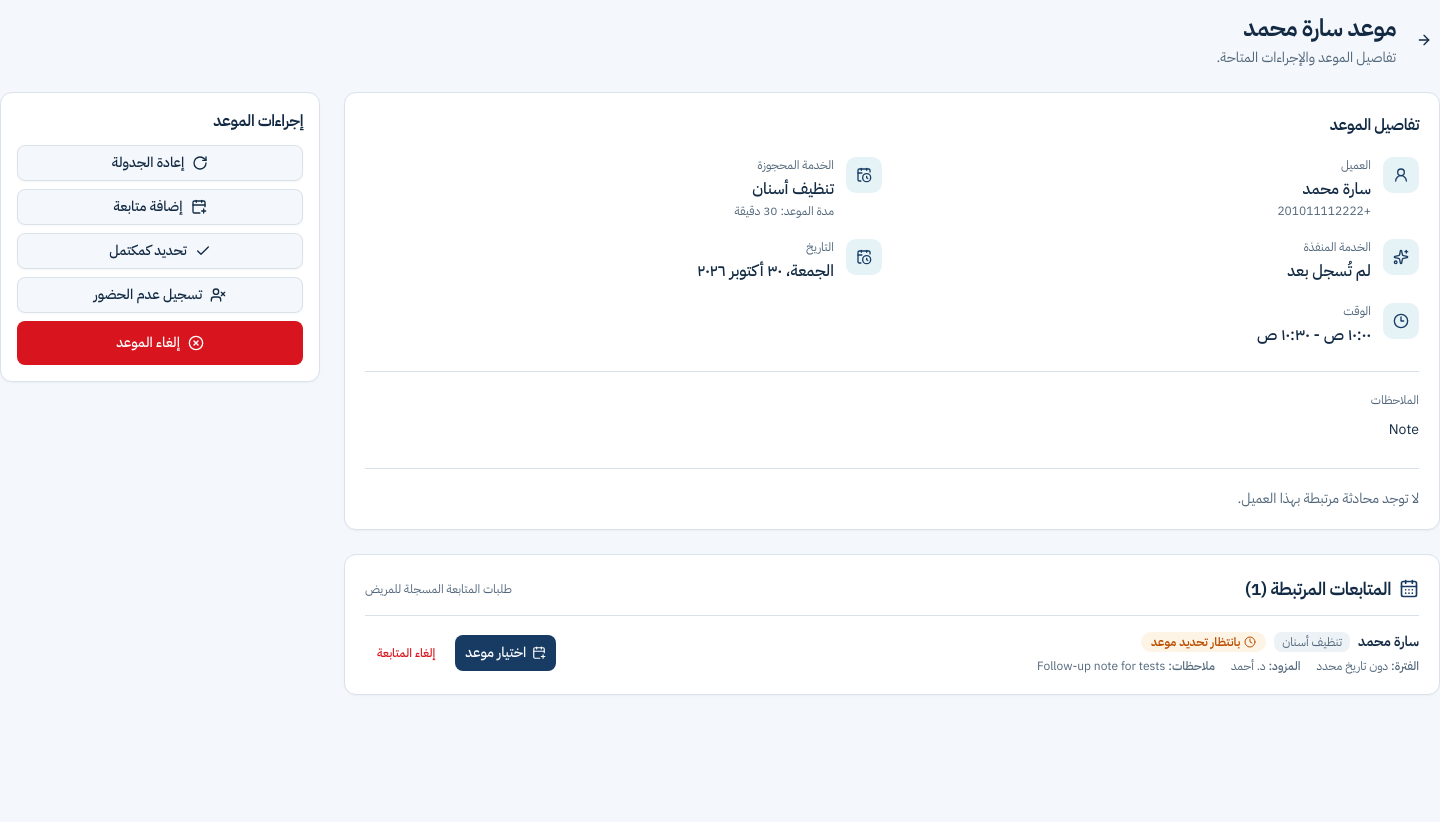
Follow-up Scheduling & DateStep Mounted Integration (ISS-006) › FollowUpList & AppointmentDetail mounted cancellation handling › 10. AppointmentDetail integrates follow-up list with live cancellation flow
Click the button "إلغاء المتابعة": x=406, y=653 [365,635,447,671]
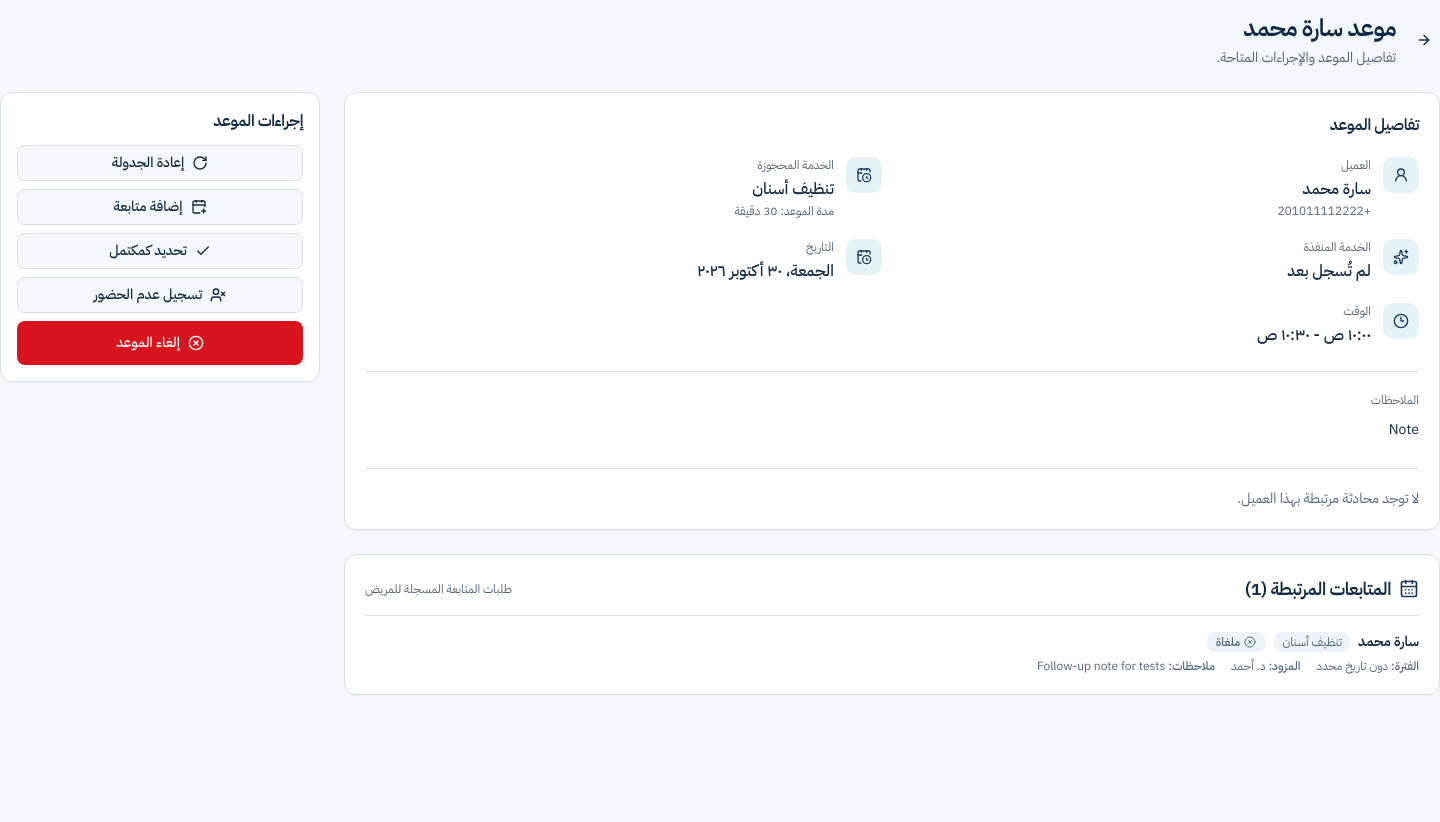
Result: the text "ملغاة" is shown at [1206,632,1266,652]
